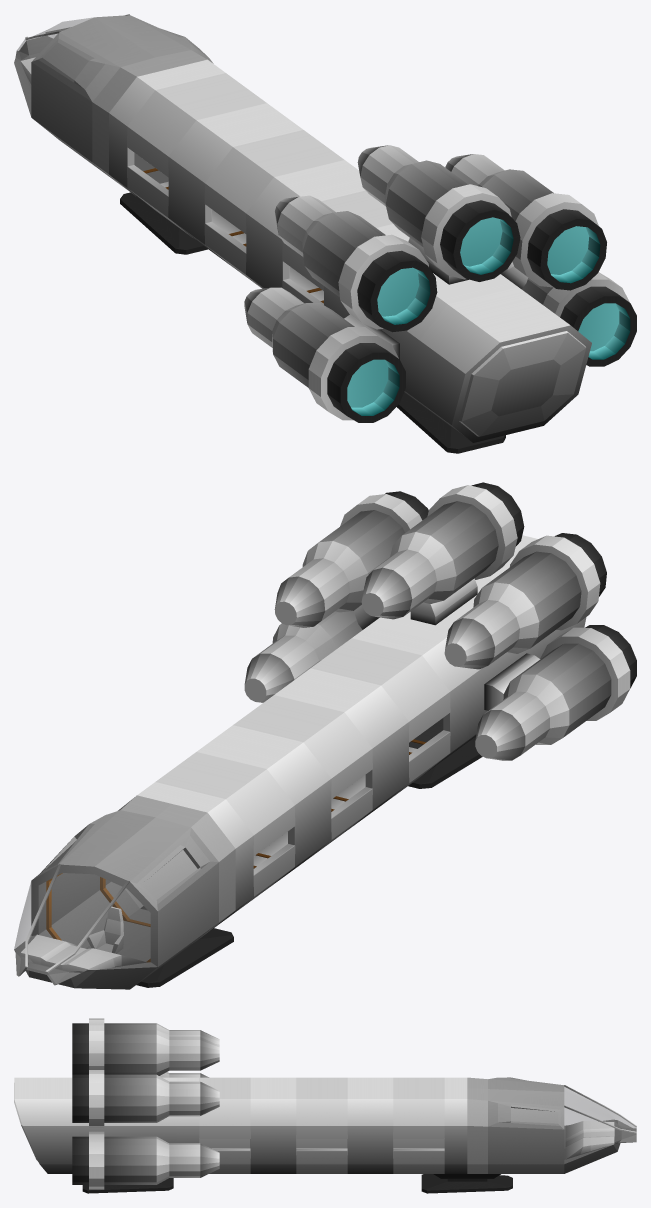
File: spaceships.glb
3 renders of one model, top to bottom at view 1: azimuth 30°, elevation 25°; view 2: azimuth 150°, elevation 25°; view 3: azimuth 270°, elevation 25°, orthographic. The views are drawn at different scales.
Visible parts, largest first — view 1: hull_cockpit, hull_windows.001, hull_windows.003, engine.003, engine, engine.002, hull_back, engine.004, bay_door, engine.001, hull_windows.002, hull_base (+3 smaller); view 2: hull_cockpit, hull_windows.003, hull_windows.002, hull_windows.001, engine.003, engine, engine.002, hull_cockpit_window, engine.004, engine.001, hull_base, dashboard (+4 smaller); view 3: hull_cockpit, hull_windows.001, hull_windows.003, hull_windows.002, engine.004, engine.001, engine.003, hull_back, hull_cockpit_window, feet.001, hull_base, dashboard (+3 smaller).
Boxes of the visible parts, left/top/right/bottom form: hull_cockpit: left=14, top=15, right=213, bottom=194; hull_windows.001: left=109, top=59, right=284, bottom=252; hull_windows.003: left=186, top=116, right=359, bottom=297; engine.003: left=357, top=145, right=520, bottom=284; engine: left=244, top=287, right=405, bottom=422; engine.002: left=275, top=195, right=437, bottom=332; hull_back: left=419, top=287, right=591, bottom=442; engine.004: left=445, top=154, right=606, bottom=290; bay_door: left=459, top=331, right=585, bottom=436; engine.001: left=522, top=272, right=636, bottom=366; hull_windows.002: left=264, top=174, right=409, bottom=316; hull_base: left=342, top=237, right=517, bottom=422; hull_cockpit: left=14, top=795, right=235, bottom=989; hull_windows.003: left=215, top=681, right=390, bottom=874; hull_windows.002: left=292, top=625, right=468, bottom=816; hull_windows.001: left=125, top=738, right=313, bottom=930; engine.003: left=361, top=482, right=524, bottom=625; engine: left=475, top=625, right=636, bottom=760; engine.002: left=444, top=533, right=606, bottom=669; hull_cockpit_window: left=14, top=865, right=157, bottom=984; engine.004: left=274, top=491, right=428, bottom=629; engine.001: left=244, top=611, right=362, bottom=702; hull_base: left=370, top=577, right=546, bottom=760; dashboard: left=20, top=934, right=147, bottom=971; hull_cockpit: left=467, top=1077, right=636, bottom=1173; hull_windows.001: left=370, top=1077, right=467, bottom=1173; hull_windows.003: left=273, top=1077, right=370, bottom=1173; hull_windows.002: left=176, top=1077, right=273, bottom=1173; engine.004: left=72, top=1070, right=219, bottom=1127; engine.001: left=72, top=1131, right=219, bottom=1189; engine.003: left=72, top=1025, right=219, bottom=1075; hull_back: left=14, top=1077, right=79, bottom=1173; hull_cockpit_window: left=564, top=1086, right=636, bottom=1163; feet.001: left=421, top=1174, right=512, bottom=1193; hull_base: left=79, top=1077, right=176, bottom=1143; dashboard: left=565, top=1121, right=614, bottom=1159.
Bounding box in the file's own units: 9.2 × 7.1 × 25.71.
1 material, 1 textured.
